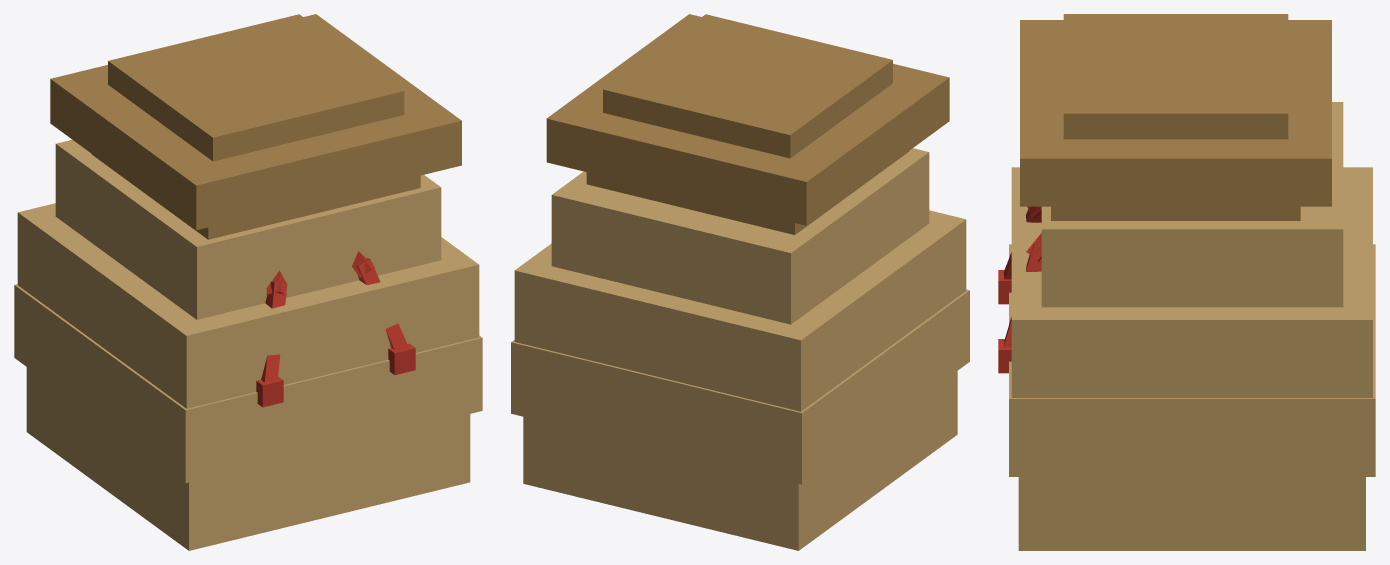
Rendered from seed-pouch-blocky.glb.
3 renders of one model, left to right at view 1: azimuth 30°, elevation 25°; view 2: azimuth 150°, elevation 25°; view 3: azimuth 270°, elevation 25°, orthographic. The views are drawn at different scales.
Parts seen in each view (by area): view 1: seed-pouch; view 2: seed-pouch; view 3: seed-pouch.
Boxes of the visible parts, x1,y1,x2,y2 form: seed-pouch: [14, 14, 482, 550]; seed-pouch: [511, 14, 969, 550]; seed-pouch: [998, 14, 1375, 550].
Bounding box in the file's own units: 0.2024 × 0.252 × 0.2084.
